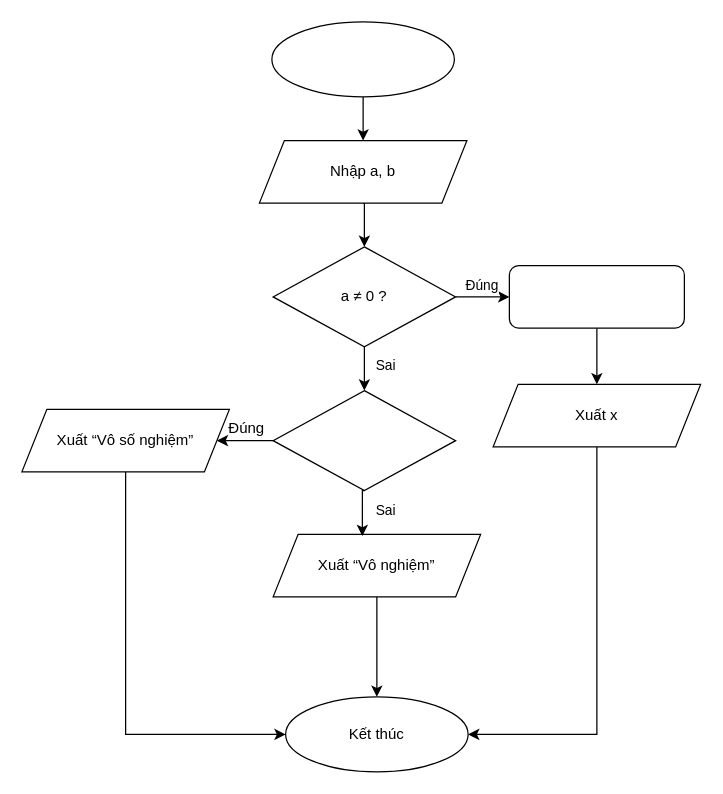
This 723x794 diagram has some shape labels left out. Here are the shapes that lost their labels. From the top down, the centre of each, then its label:
point 362,59: Bắt đầu
point 596,296: x <- -b / a
point 364,440: b = 0 ?
